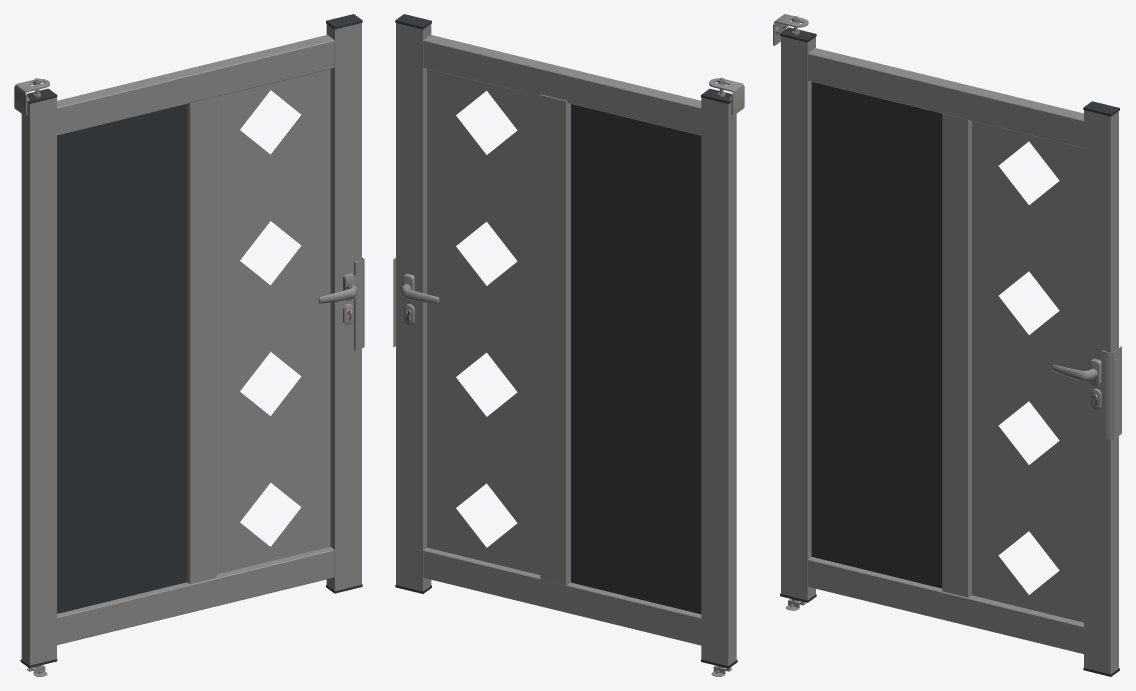
3 renders of one model, left to right at view 1: azimuth 30°, elevation 25°; view 2: azimuth 150°, elevation 25°; view 3: azimuth 330°, elevation 25°, orthographic.
Parts seen in each view (by area): view 1: Chapa Alucobond020, Rectangle066, Shape107412643, Shape107412638, Shape107412592, Shape107412585, Shape107412584, Shape107412637, Rectangle057; view 2: Chapa Alucobond020, Rectangle066, Shape107412643, Shape107412638, Shape107412592, Shape107412585, Shape107412584, Rectangle057; view 3: Chapa Alucobond020, Rectangle066, Shape107412638, Shape107412643, Shape107412592, Shape107412585, Shape107412584, Shape107412637.
Boxes of the visible parts, <box> form: Chapa Alucobond020: <box>57,104,186,613</box>; Rectangle066: <box>216,69,330,574</box>; Shape107412643: <box>21,97,56,665</box>; Shape107412638: <box>326,23,361,590</box>; Shape107412592: <box>187,97,216,583</box>; Shape107412585: <box>57,35,334,135</box>; Shape107412584: <box>57,546,334,644</box>; Shape107412637: <box>354,257,364,350</box>; Rectangle057: <box>14,78,49,116</box>; Chapa Alucobond020: <box>571,104,701,614</box>; Rectangle066: <box>427,69,540,574</box>; Shape107412643: <box>701,97,736,665</box>; Shape107412638: <box>396,23,431,591</box>; Shape107412592: <box>540,94,570,585</box>; Shape107412585: <box>423,35,701,135</box>; Shape107412584: <box>423,547,701,645</box>; Rectangle057: <box>709,78,744,115</box>; Chapa Alucobond020: <box>811,82,942,588</box>; Rectangle066: <box>972,121,1083,622</box>; Shape107412638: <box>1084,110,1118,674</box>; Shape107412643: <box>781,36,815,600</box>; Shape107412592: <box>942,113,971,597</box>; Shape107412585: <box>808,48,1083,147</box>; Shape107412584: <box>808,556,1083,653</box>; Shape107412637: <box>1101,346,1121,439</box>.
Size of the model in its own units: 1015 by 1688 by 152.
Materials: 7 (4 with a texture image).
